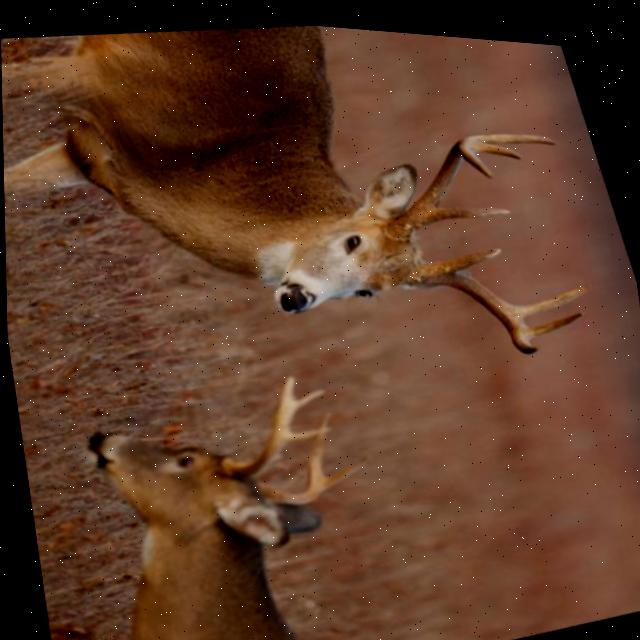L-F: (382, 128, 493, 233)
L-G1: (429, 198, 511, 215)
L-G2: (472, 124, 558, 135)
L-G3: (478, 134, 524, 151)
R-F: (400, 252, 538, 345)
R-G1: (438, 238, 501, 265)
R-G2: (513, 275, 590, 310)
R-G3: (524, 301, 583, 330)
